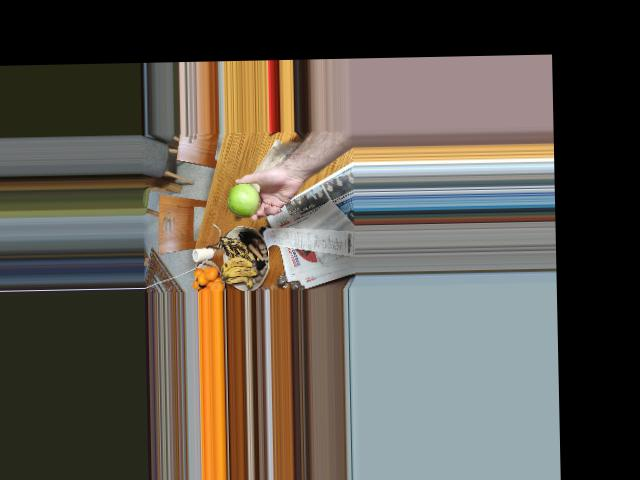apple: (221, 183, 261, 216)
